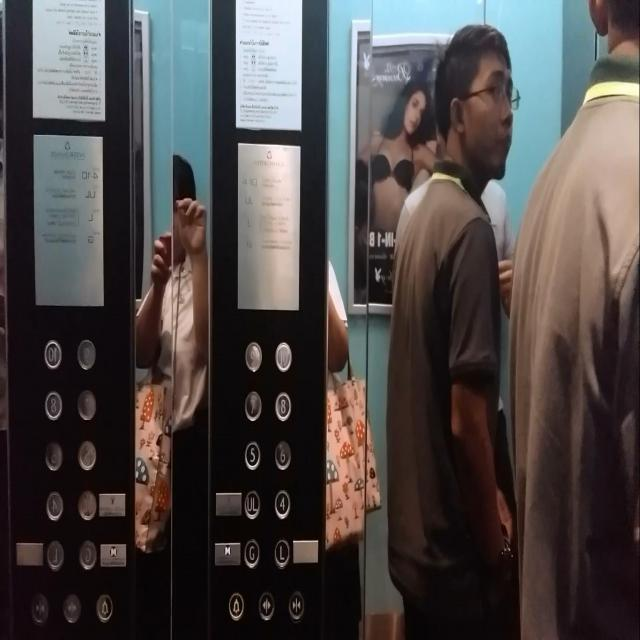10: (274, 341, 292, 372)
4: (273, 488, 290, 518)
5: (244, 439, 260, 468)
6: (273, 440, 291, 469)
7: (243, 388, 262, 422)
8: (44, 388, 63, 420), (275, 391, 291, 421)
G: (243, 538, 260, 568)
L: (273, 538, 289, 567)
UL: (242, 488, 261, 520)
alarm: (95, 592, 113, 620), (227, 590, 244, 619)
blur: (244, 341, 262, 372)
close: (286, 589, 304, 622), (31, 592, 49, 624)
open: (256, 588, 275, 621), (62, 592, 81, 622)
unknown: (76, 387, 96, 421), (77, 437, 97, 470), (76, 337, 96, 369), (44, 438, 64, 470), (78, 538, 97, 568), (45, 491, 63, 522), (78, 488, 96, 519), (44, 338, 61, 369), (47, 541, 63, 569)
